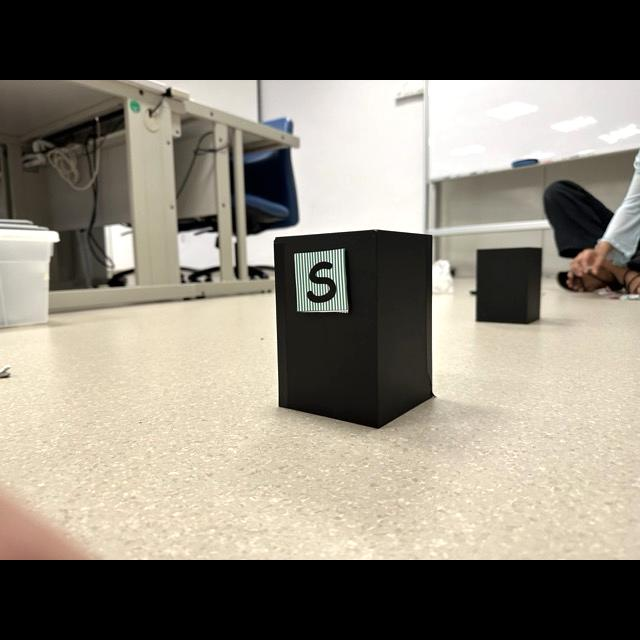S: (306, 261, 336, 302)
